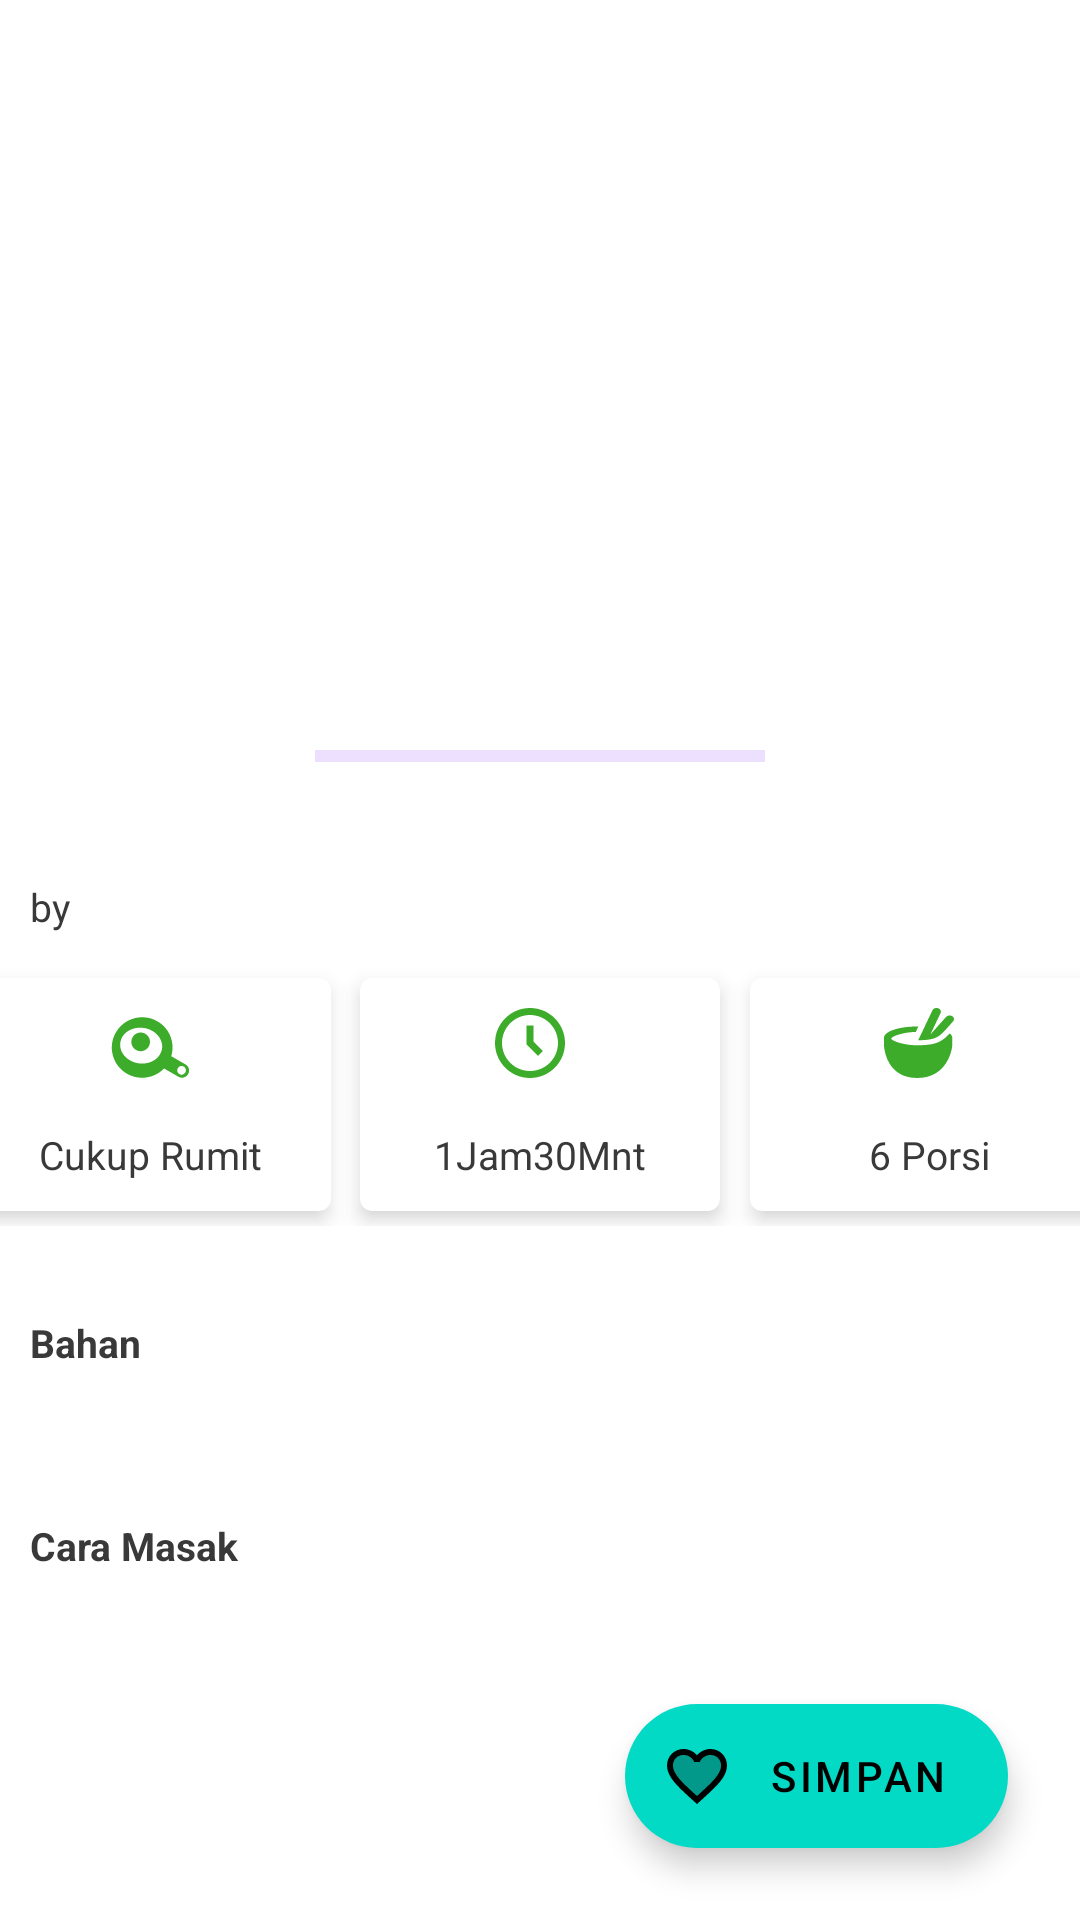

Screen size 1080 x 1920. Icon name, then its box in pixels as (x1, y1, x2, y2):
portion: (884, 1008, 954, 1078)
times: (495, 1008, 565, 1078)
